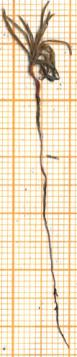flower: (0, 0, 77, 84)
root: (33, 155, 72, 353)
stem: (25, 65, 46, 157)
